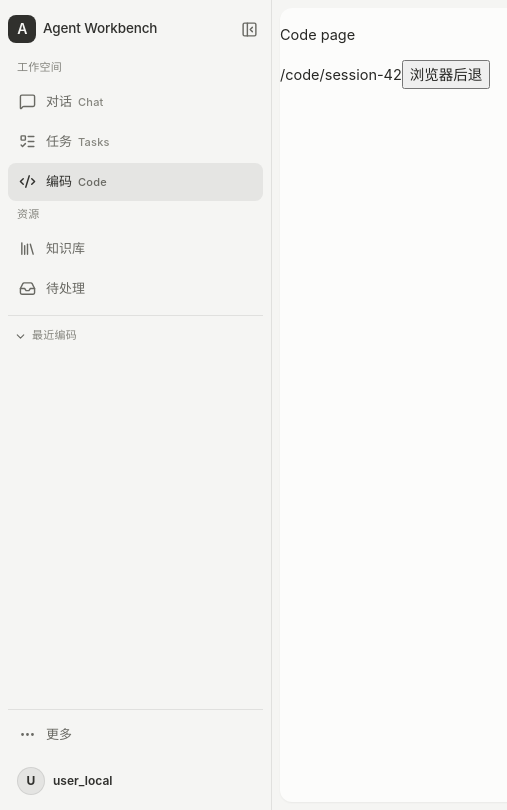
Test: AppShell rail › returns from /code/session-42 to the last open item
The image size is (507, 810).
What coordinates should you click on to do the following:
click the link "对话 Chat"
I would click on:
 (61, 102)
Its box is [18,93,104,110].
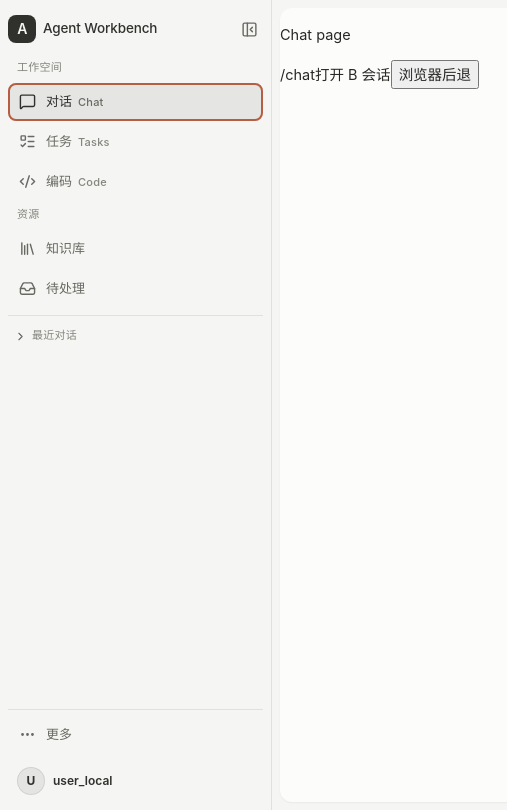
What coordinates should you click on to do the following:
click the link "编码 Code"
I would click on:
 (63, 182)
Its box is [18,173,107,190].
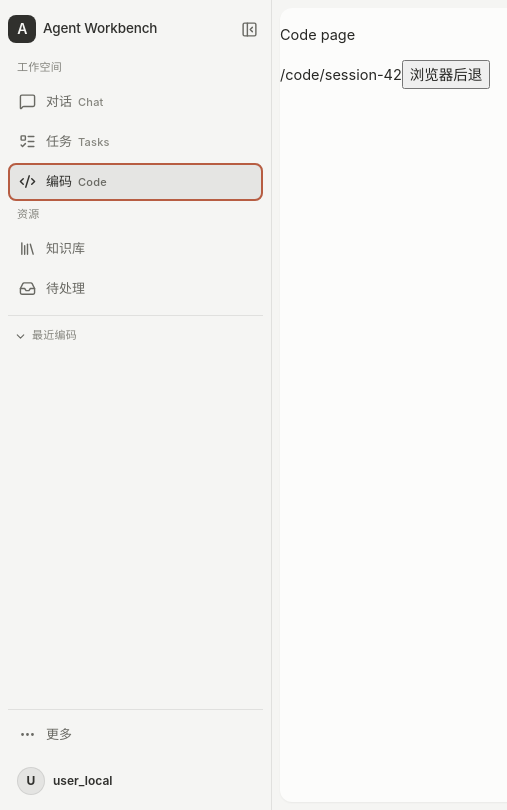
Expected: the text named "当前路径" reads "/code/session-42", [280,66,402,83]
